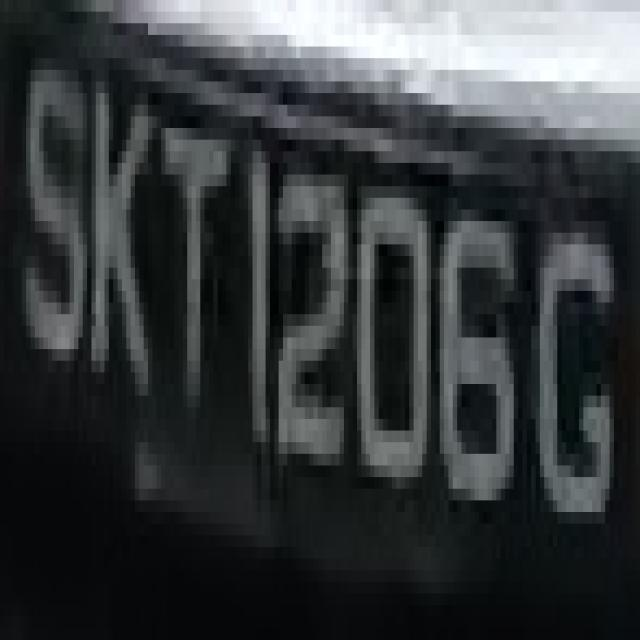0: (340, 116, 431, 547)
1: (235, 93, 283, 477)
2: (283, 116, 353, 547)
6: (426, 186, 514, 547)
G: (526, 163, 622, 582)
K: (78, 47, 157, 407)
S: (22, 35, 91, 396)
T: (148, 47, 231, 466)
